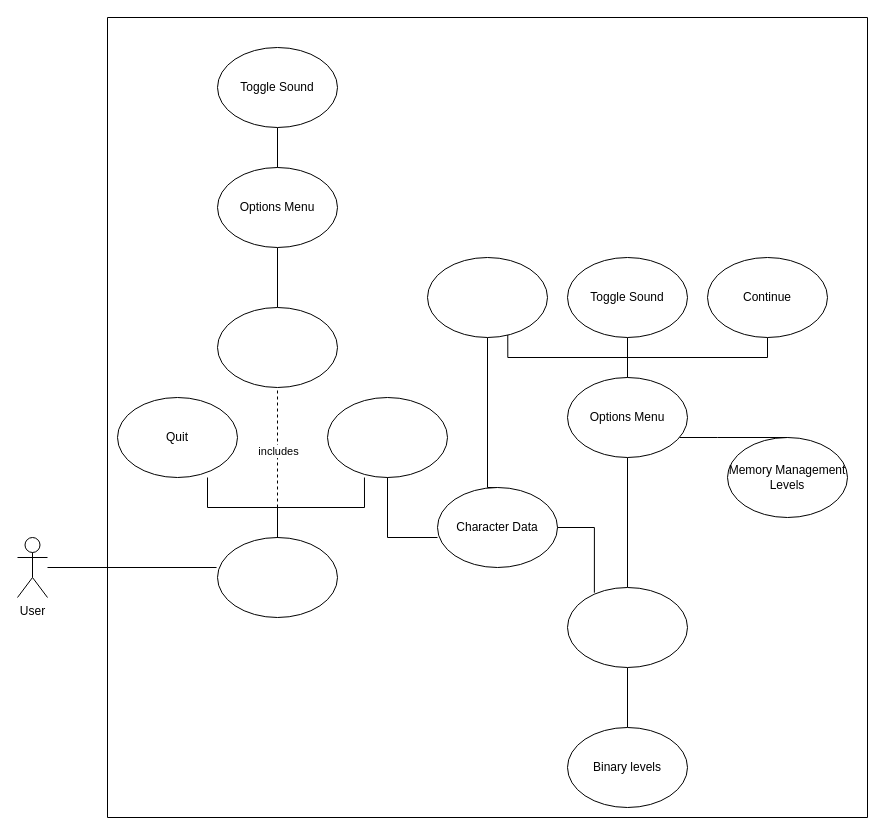
This 886x836 diagram has some shape labels left out. Here are the shapes that lost their labels. From the top down, the box of each, then its label:
(426, 256, 548, 338): Save
(216, 306, 338, 388): Options
(326, 396, 448, 478): Play
(216, 536, 338, 618): Title Screen
(566, 586, 688, 668): Logic Gate Levels
